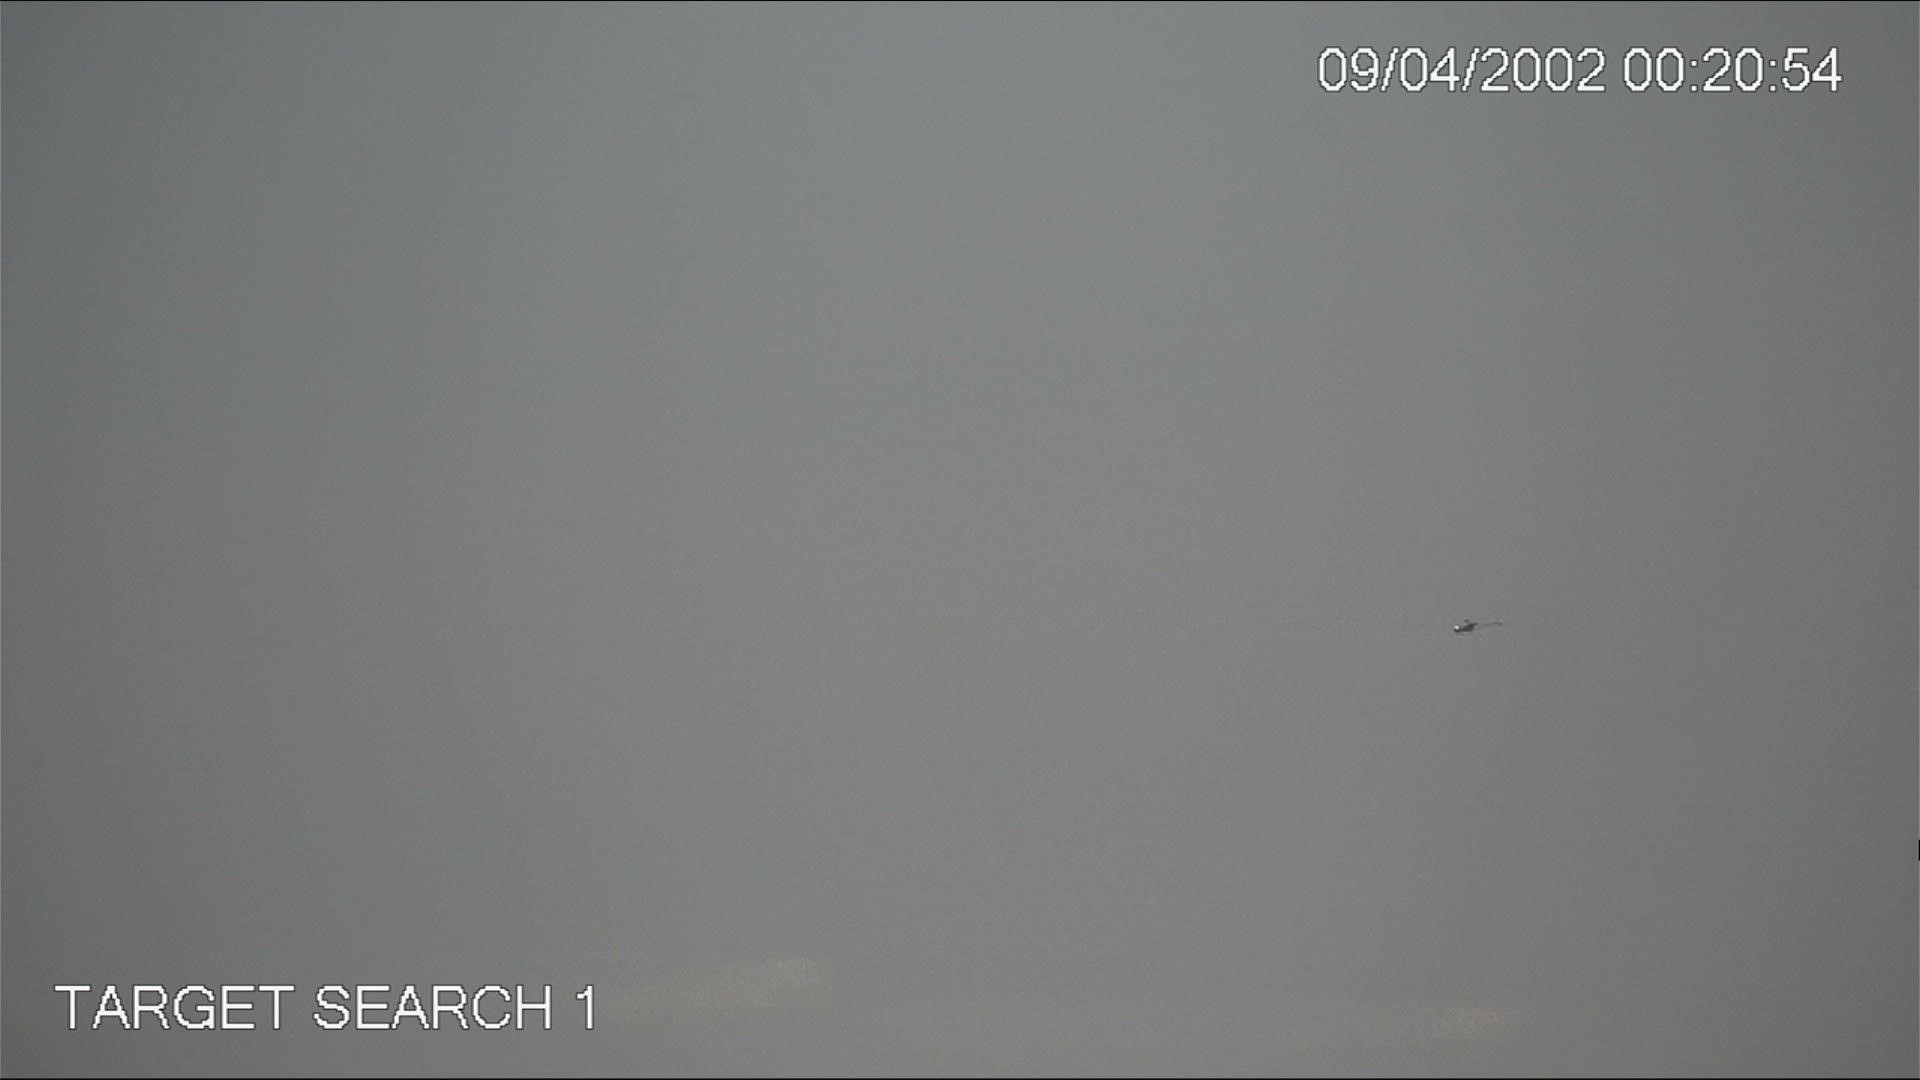SU_30: (1452, 616, 1480, 637)
